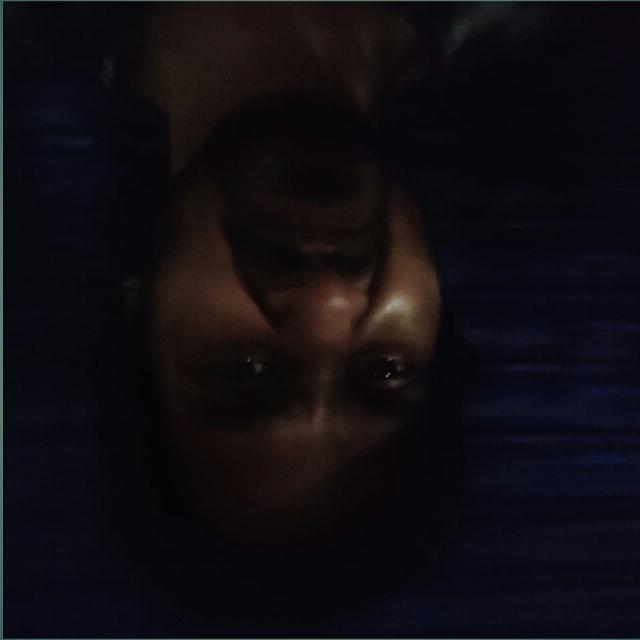Disgust: (117, 117, 481, 604)
